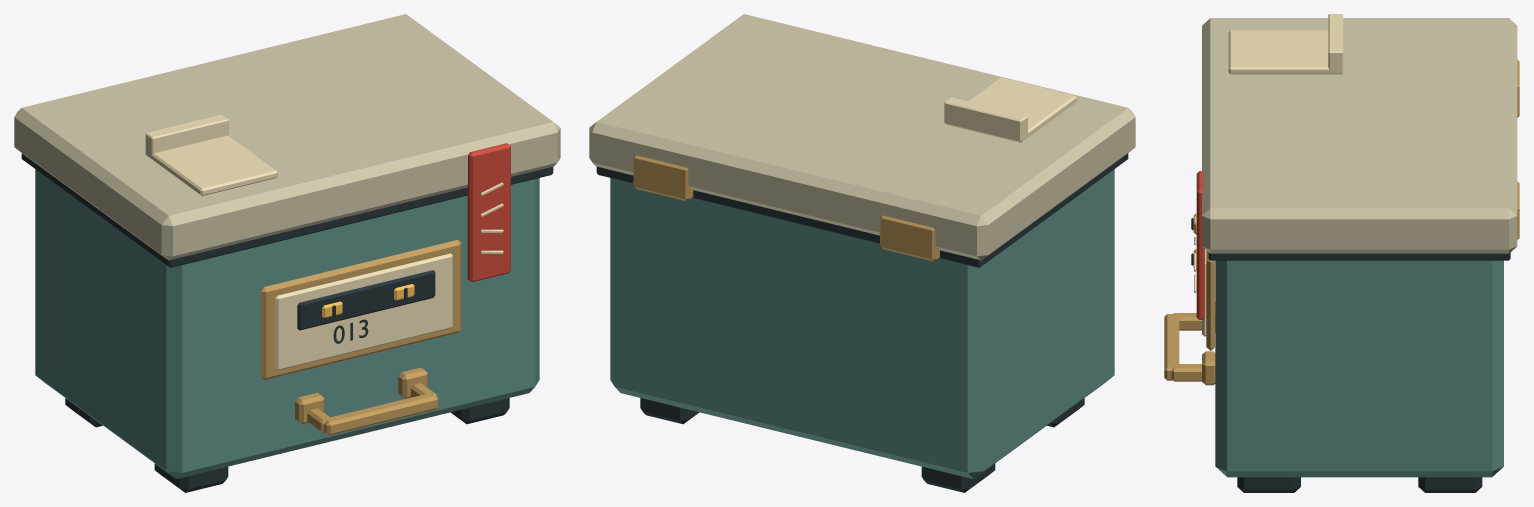
File: archive-box.glb
3 views of the same model, side by side, from view 1: azimuth 30°, elevation 25°; view 2: azimuth 150°, elevation 25°; view 3: azimuth 270°, elevation 25° (orthographic).
Parts seen in each view (by area): view 1: closed body block, lid, paper label, label plate, red paper seal, folded paper tab, dark lid reveal, peephole, handle grip, tab fold, foot, foot.002 (+2 smaller); view 2: closed body block, lid, dark lid reveal, folded paper tab, tab fold, lid hinge, lid hinge.001, foot.001, foot.003; view 3: lid, closed body block, folded paper tab, dark lid reveal, red paper seal, foot.003, foot.002, handle grip, tab fold, label plate, handle right, handle mount.001 (+1 smaller).
Part boxes in pixels (x1,y1,x2,y2): closed body block: (35,169,539,478); lid: (14,14,560,260); paper label: (275,253,452,370); label plate: (260,240,461,379); red paper seal: (467,143,510,282); folded paper tab: (146,135,277,195); dark lid reveal: (21,153,553,267); peephole: (297,270,435,330); handle grip: (324,392,438,435); tab fold: (145,114,228,154); foot: (154,463,228,492); foot.002: (450,398,509,424); closed body block: (610,169,1114,478); lid: (589,14,1135,260); dark lid reveal: (596,153,1128,267); folded paper tab: (946,77,1076,142); tab fold: (944,97,1027,142); lid hinge: (880,215,939,261); lid hinge.001: (633,155,693,201); foot.001: (921,463,995,492); foot.003: (640,398,699,424); lid: (1202,18,1517,253); closed body block: (1215,260,1503,477); folded paper tab: (1228,30,1341,74); dark lid reveal: (1208,252,1510,260); red paper seal: (1196,171,1204,319); foot.003: (1418,477,1482,492); foot.002: (1237,477,1300,492); handle grip: (1164,314,1179,380); tab fold: (1328,14,1343,73); label plate: (1206,250,1214,350); handle right: (1171,364,1201,381); handle mount.001: (1202,351,1215,385).
Size of the model in its own units: 1.39 by 1.07 by 1.06.
